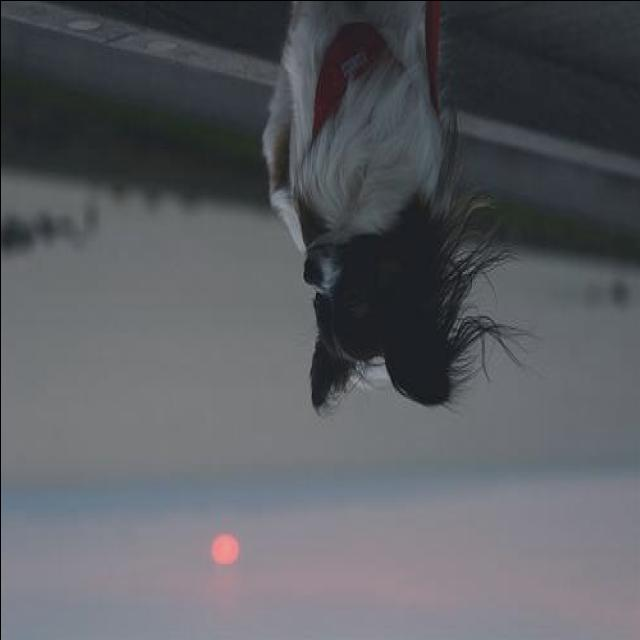papillon: (261, 2, 545, 415)
